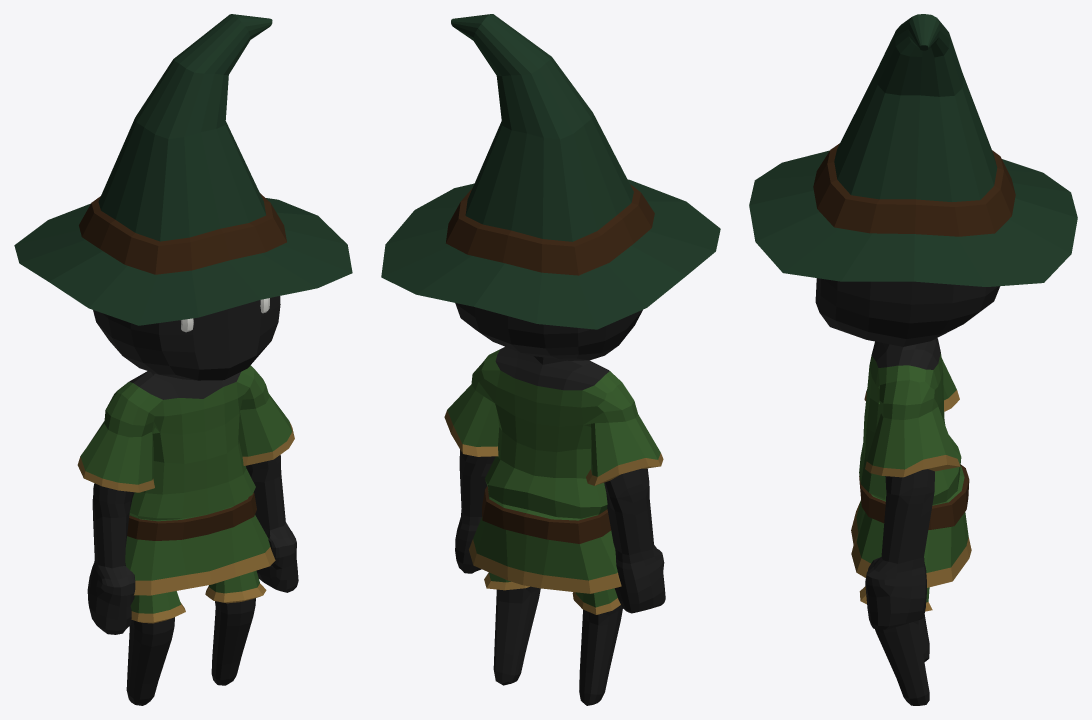
The model's file is elf-005ef20d05.glb.
3 renders of one model, left to right at view 1: azimuth 30°, elevation 25°; view 2: azimuth 150°, elevation 25°; view 3: azimuth 270°, elevation 25°, orthographic. The views are drawn at different scales.
Visible parts, largest first — view 1: Elf.obj; view 2: Elf.obj; view 3: Elf.obj.
Part boxes in pixels (box(x1,y1,x2,y2)): Elf.obj: box(14, 14, 352, 705); Elf.obj: box(381, 14, 720, 705); Elf.obj: box(749, 14, 1077, 705).
Size of the model in its own units: 1.73 by 4.06 by 1.73.
